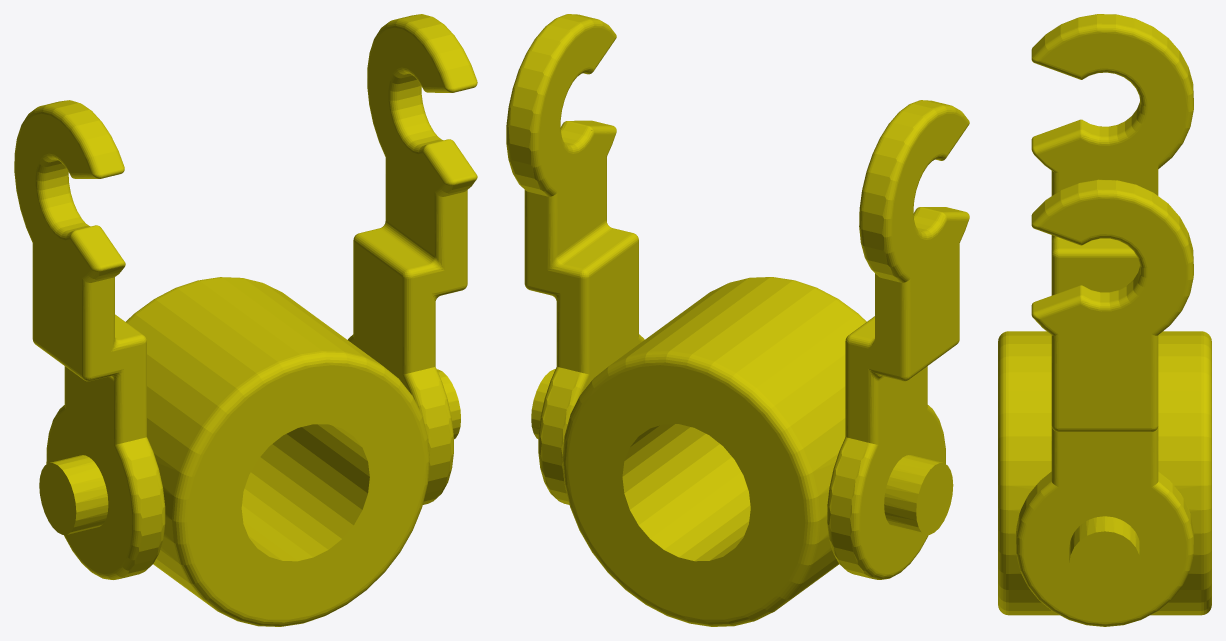
Rendered from MocXichBanLe_Vang.glb.
3 renders of one model, left to right at view 1: azimuth 30°, elevation 25°; view 2: azimuth 150°, elevation 25°; view 3: azimuth 270°, elevation 25°, orthographic. The views are drawn at different scales.
Visible parts, largest first — view 1: defaultobject.001; view 2: defaultobject.001; view 3: defaultobject.001.
Boxes of the visible parts, x1,y1,x2,y2 form: defaultobject.001: (14, 14, 477, 626); defaultobject.001: (506, 14, 969, 626); defaultobject.001: (998, 14, 1211, 626).
Size of the model in its own units: 36.24 by 46.78 by 18.12.
